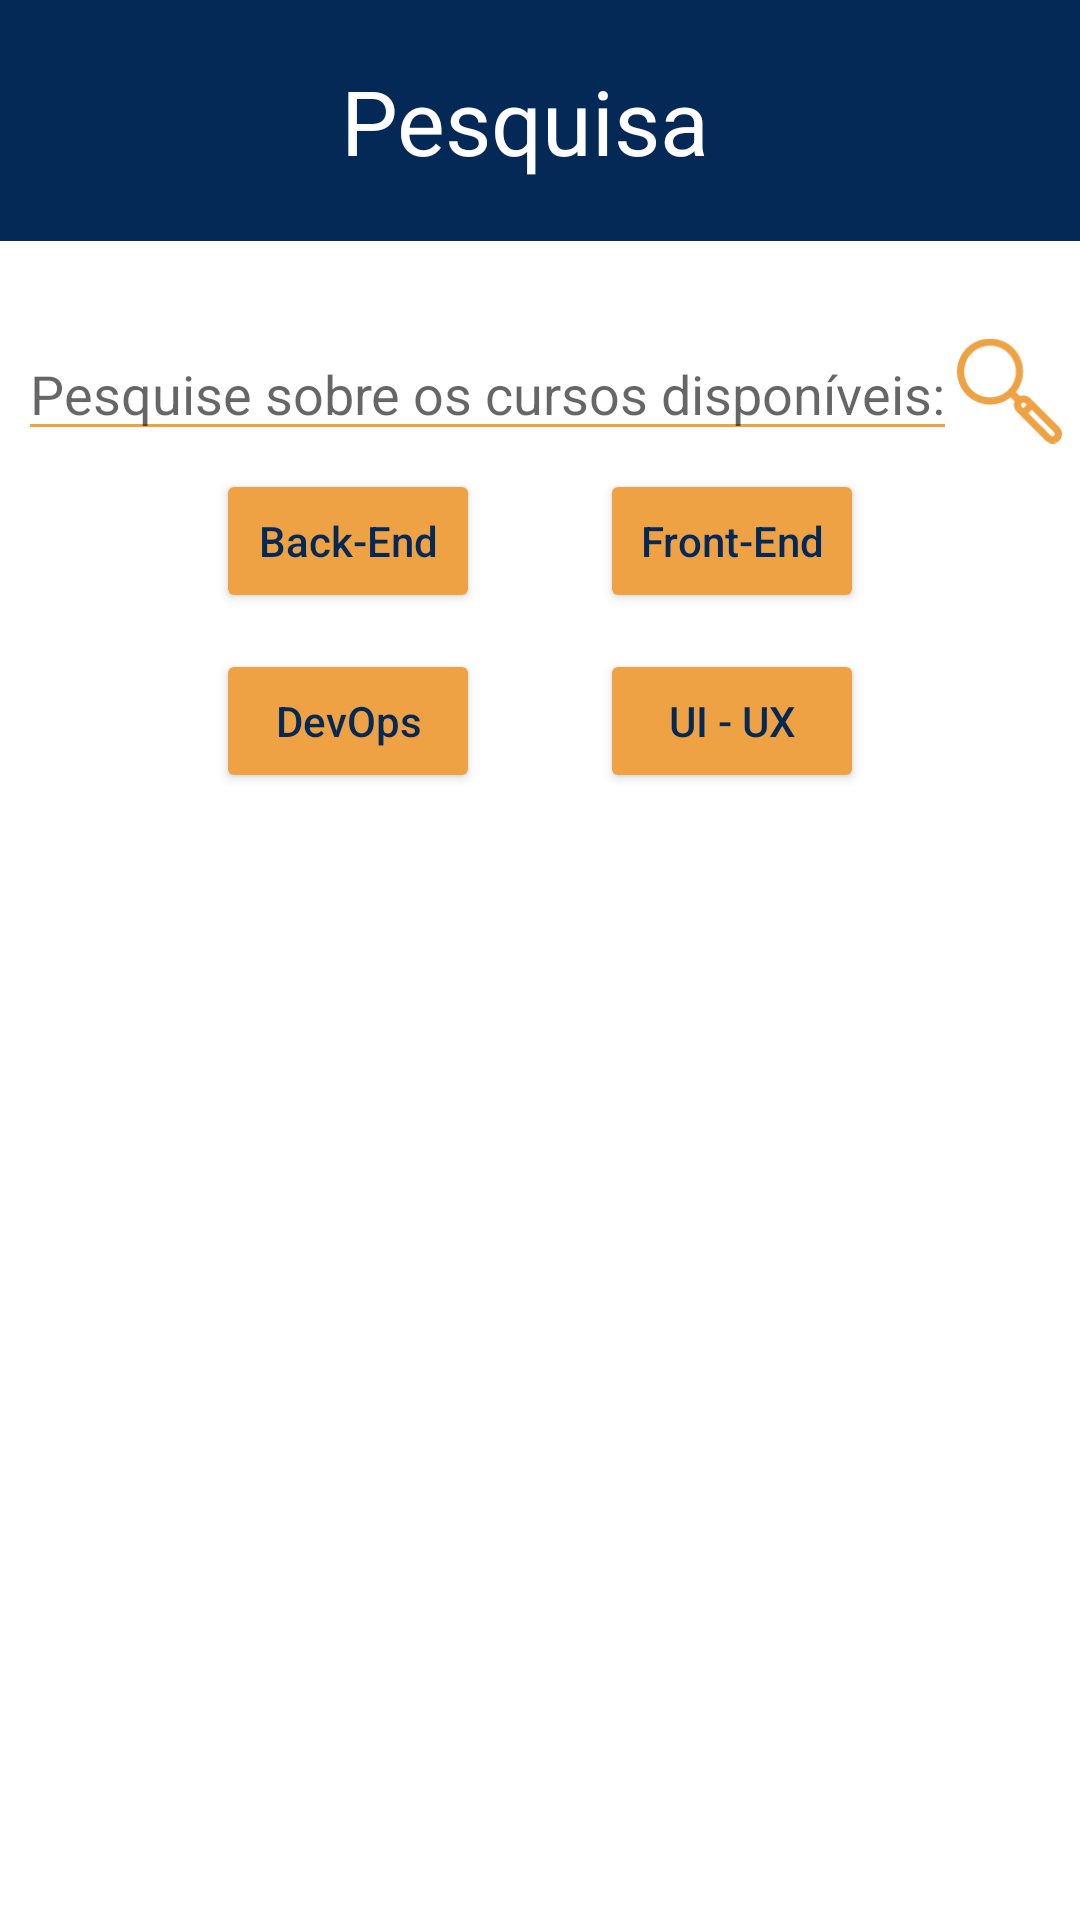

Screen size 1080 x 1920. Icon name, then its center in pixels as (x=x, y=y):
loupe: (x=1009, y=391)
